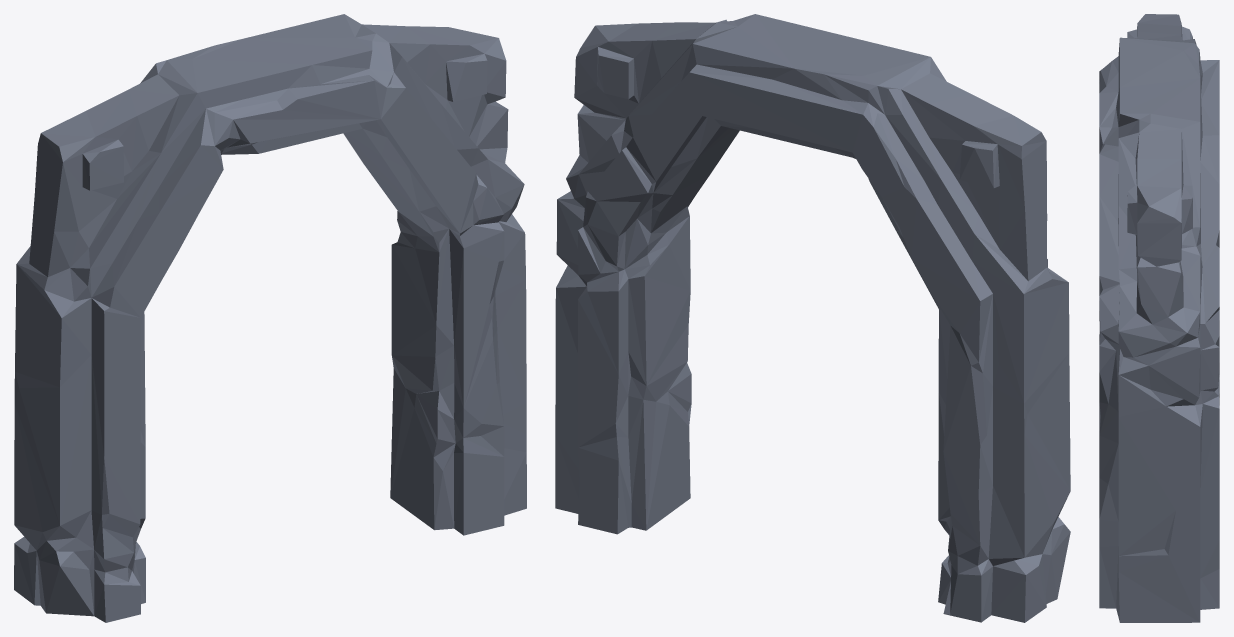
The model's file is Frame_01.FBX.
The picture shows the model from 3 angles, left to right: view 1: azimuth 30°, elevation 25°; view 2: azimuth 150°, elevation 25°; view 3: azimuth 270°, elevation 25°; orthographic projection. The views are drawn at different scales.
Parts seen in each view (by area): view 1: Frame_01; view 2: Frame_01; view 3: Frame_01.
Boxes of the visible parts, bbox=[...] form: Frame_01: bbox=[14, 14, 526, 622]; Frame_01: bbox=[555, 14, 1070, 622]; Frame_01: bbox=[1099, 14, 1219, 622].
Bounding box in the file's own units: 5.32 × 5.38 × 1.33.
